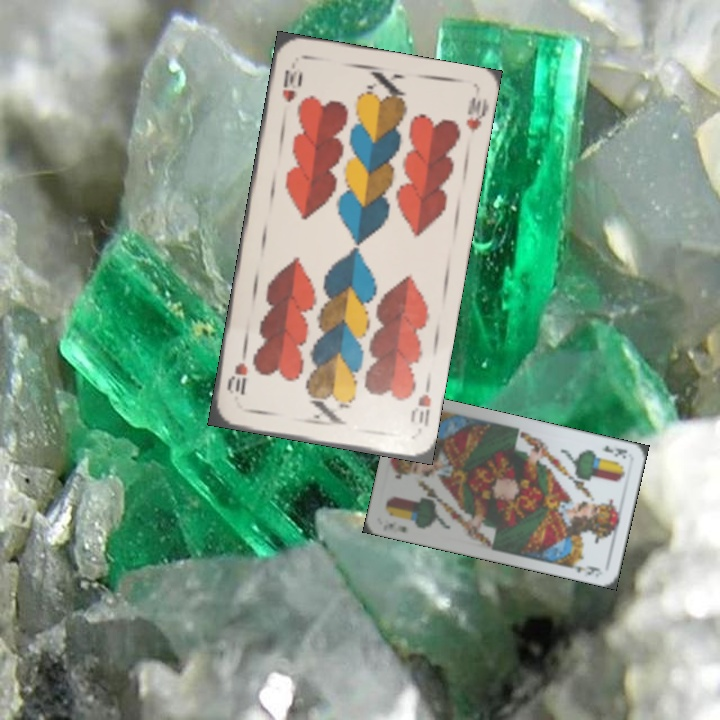EK: (597, 441, 629, 462), (379, 519, 409, 535)
H10: (406, 377, 434, 429), (278, 64, 304, 105)
